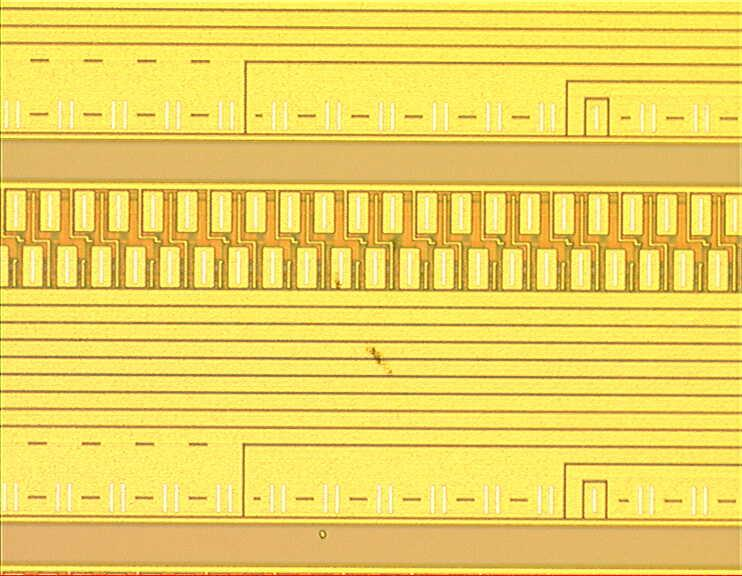PO CONTAMINATION: (323, 267, 410, 393)
